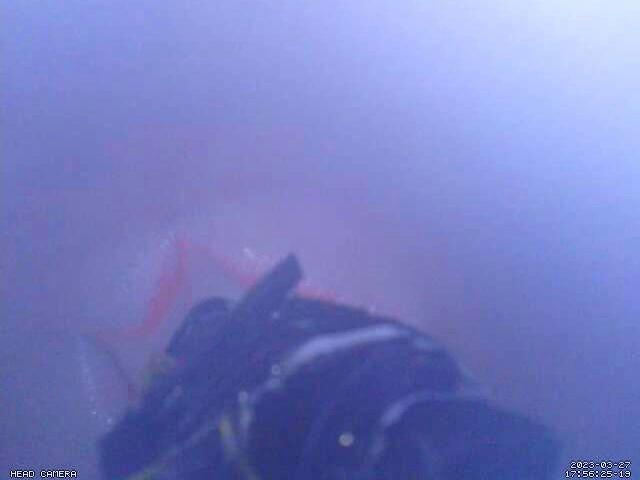head: (95, 230, 337, 343)
